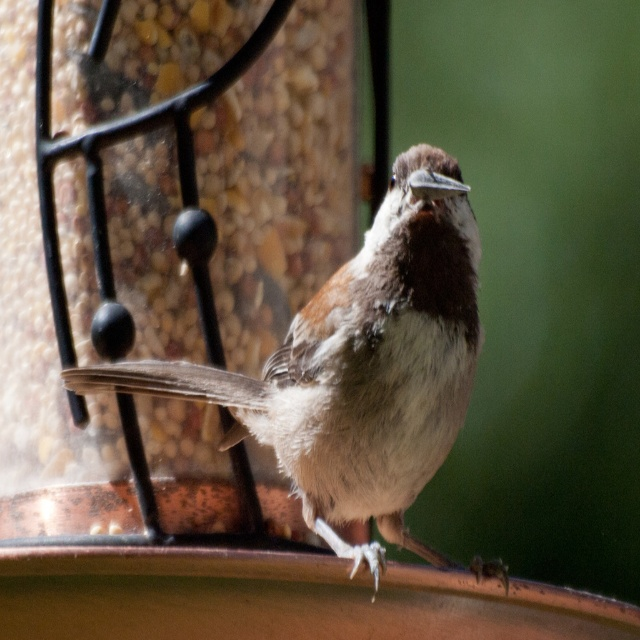Sparrow: (60, 142, 513, 602)
